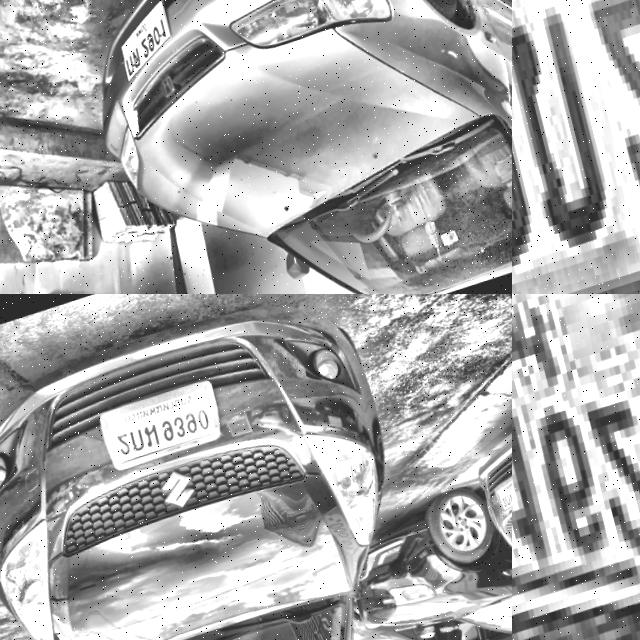license-plate: (512, 294, 640, 640), (512, 0, 640, 294), (96, 373, 229, 485), (112, 2, 182, 89), (491, 477, 512, 524)
